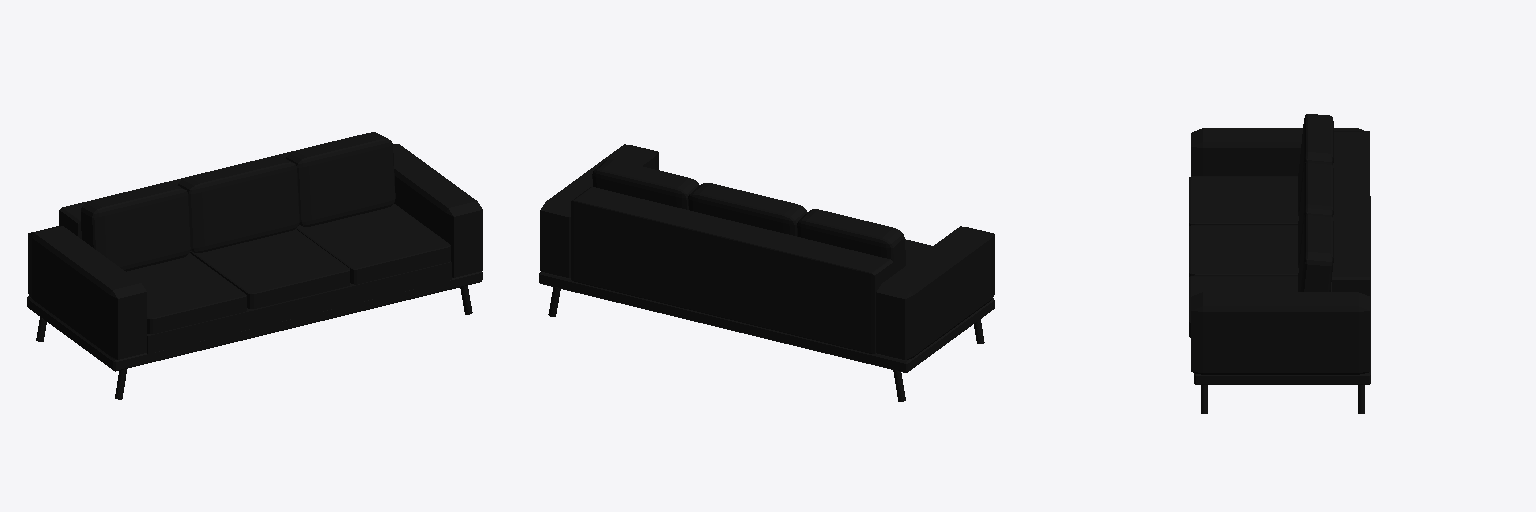
The model's file is couch.obj.
3 renders of one model, left to right at view 1: azimuth 30°, elevation 25°; view 2: azimuth 150°, elevation 25°; view 3: azimuth 270°, elevation 25°, orthographic.
Parts seen in each view (by area): view 1: |Koltuk|Root|None:default, |Koltuk|Root|Material:default; view 2: |Koltuk|Root|None:default, |Koltuk|Root|Material:default; view 3: |Koltuk|Root|None:default, |Koltuk|Root|Material:default.
Part boxes in pixels (x1,y1,x2,y2): |Koltuk|Root|None:default: (28,132,482,399); |Koltuk|Root|Material:default: (27,261,482,371); |Koltuk|Root|None:default: (540,144,994,401); |Koltuk|Root|Material:default: (539,272,994,372); |Koltuk|Root|None:default: (1189,114,1369,413); |Koltuk|Root|Material:default: (1194,196,1370,384).
Size of the model in its own units: 0.02 by 0.0075 by 0.0085.